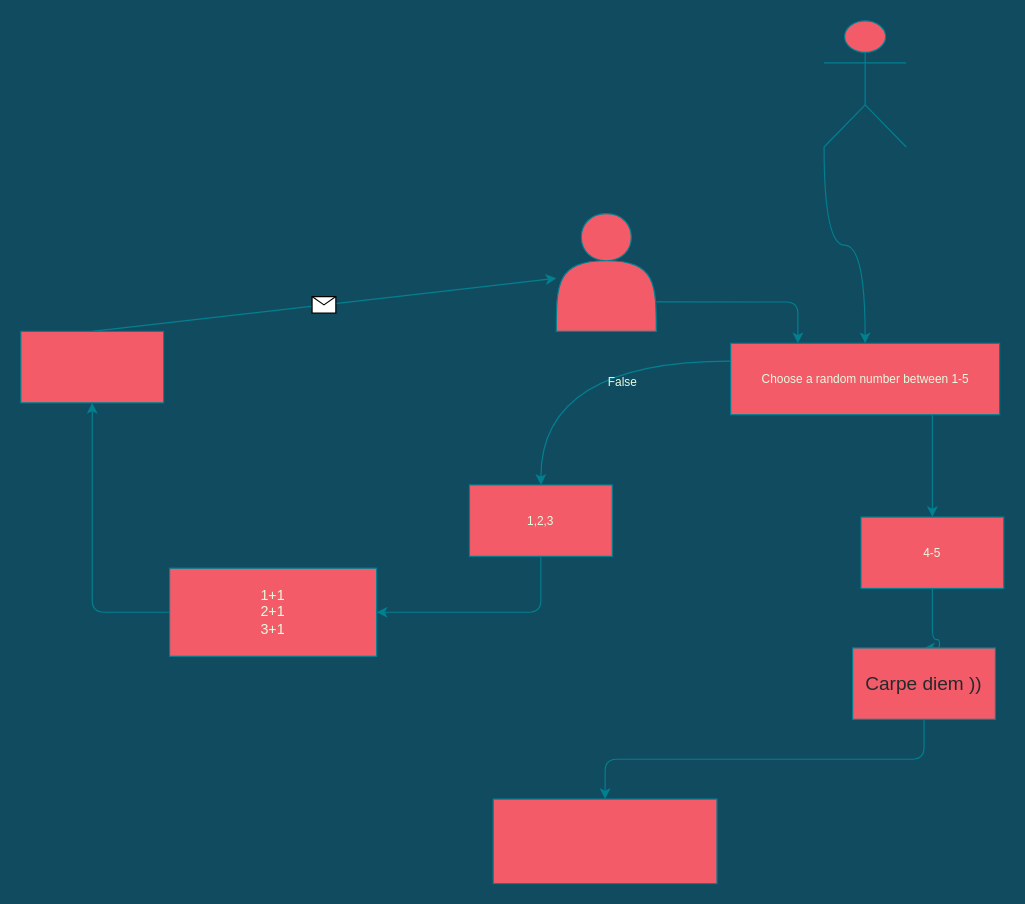
Some shapes in this 1025 by 904 pixel diagram are drawn without their labels. The shapes that lost their labels are listed below. From the top down, each one's centre as x and y in pixels, then its label:
At (864,83): "User".
At (92,366): "Try again please".
At (604,841): "End".
